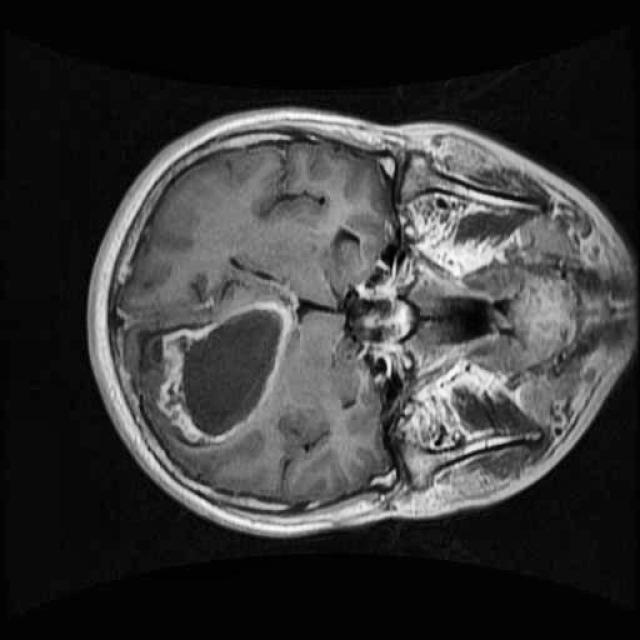Non-Tumor: (146, 285, 305, 455)
